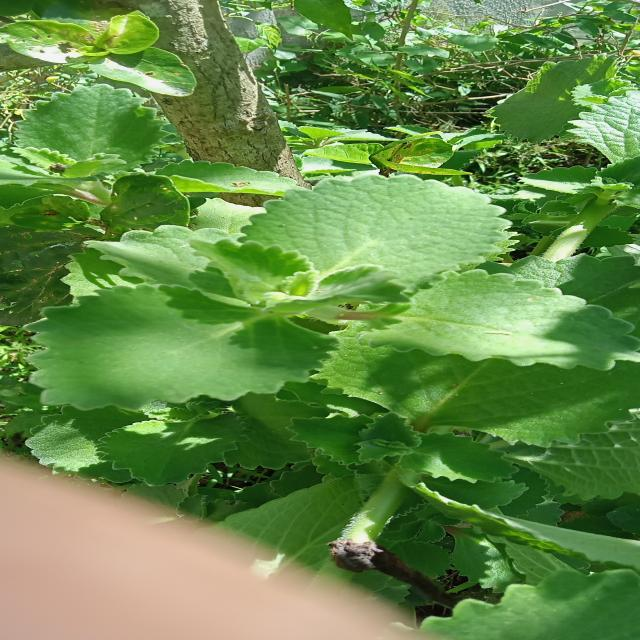Oregano: (250, 172, 640, 395), (22, 275, 346, 423)
